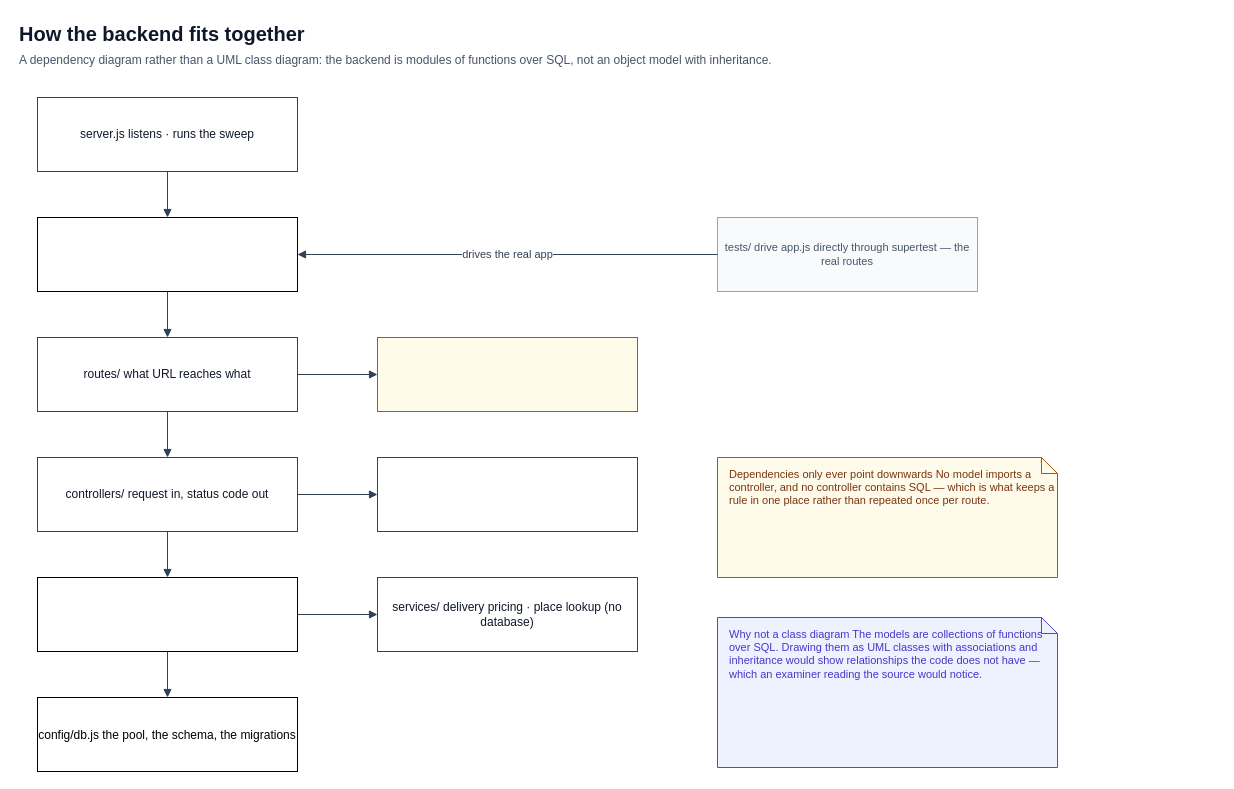
Some shapes in this 1234 by 789 pixel diagram are drawn without their labels. Each missing label, with the centre of its shape:
"app.js the Express application no port, no timers" goes at (167,254).
"middleware/ auth · role · suspension rate limit · uploads · errors" goes at (507,374).
"models/ the rules, and all the SQL" goes at (167,614).
"utils/accounts.js turns a signed-in user into their profile id" goes at (507,494).
